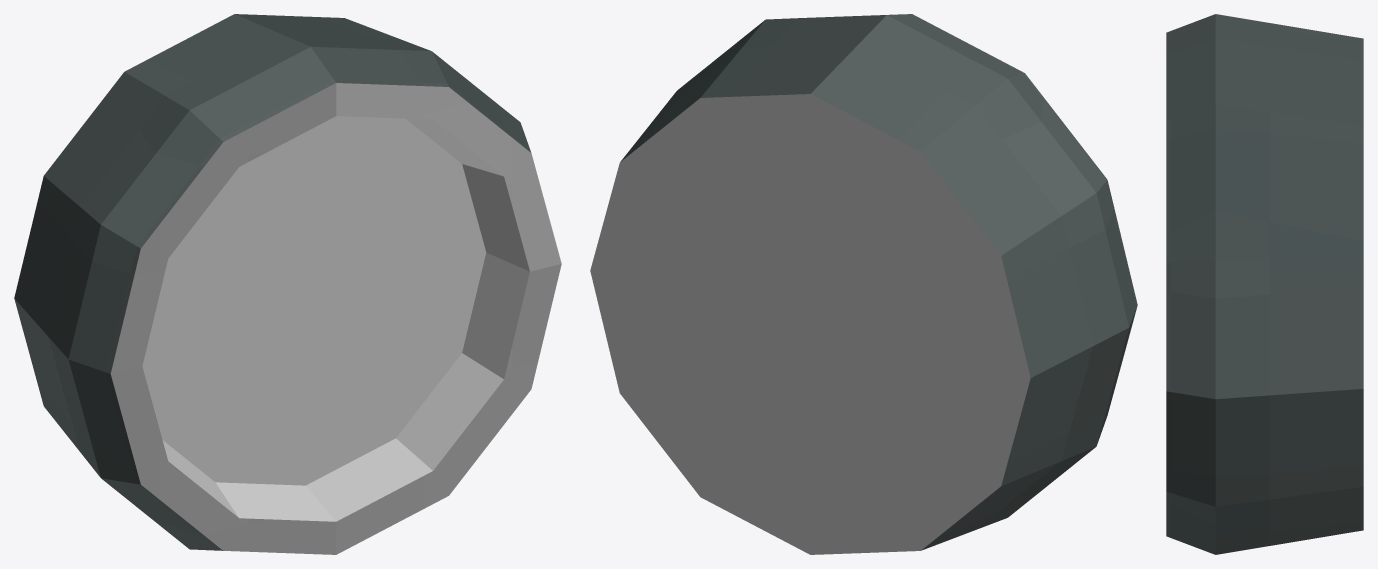
The model's file is cutout.obj.
The picture shows the model from 3 angles, left to right: view 1: azimuth 30°, elevation 25°; view 2: azimuth 150°, elevation 25°; view 3: azimuth 270°, elevation 25°; orthographic projection. The views are drawn at different scales.
Size of the model in its own units: 0.3438 by 0.3438 by 0.125.
